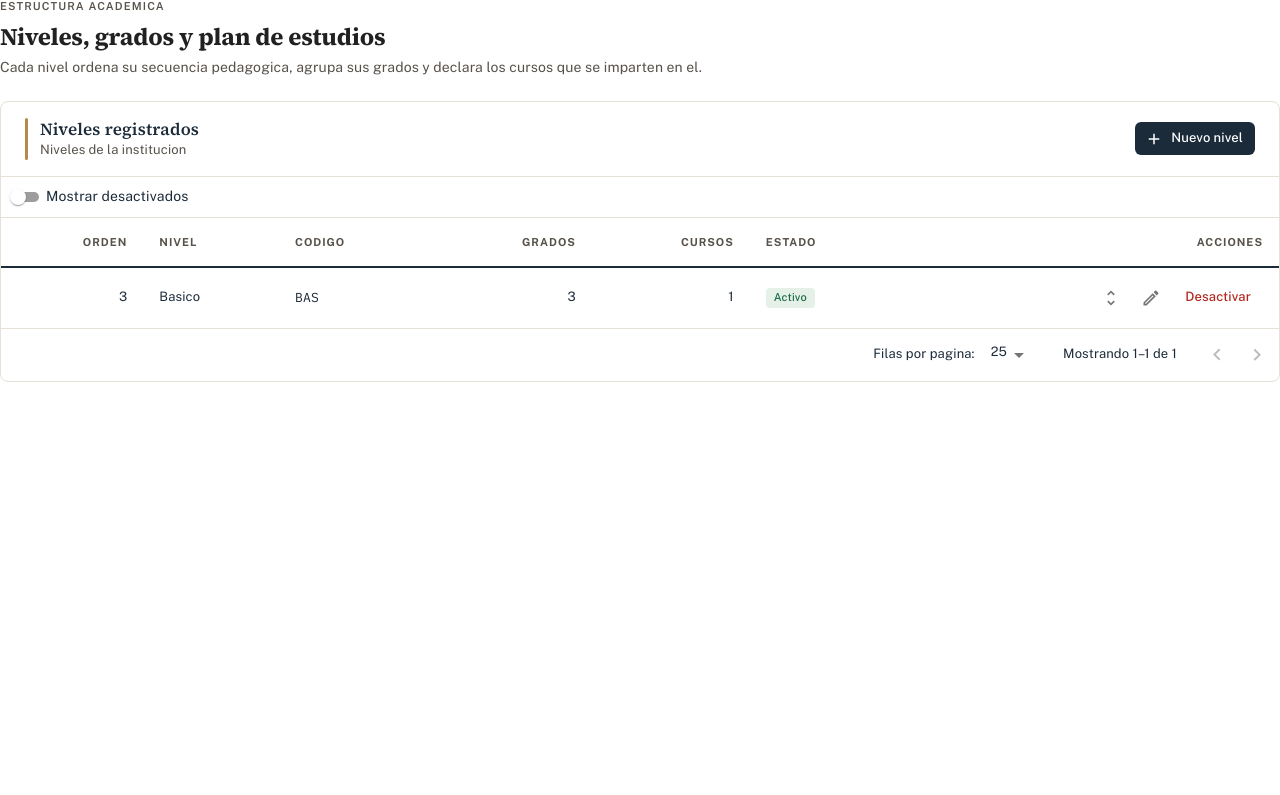
Scenario: pantalla de niveles › al abrir un nivel carga sus grados y su plan de estudios
Expected: the text "Basico" is shown, x1=143 y1=267 x2=279 y2=328
Click the button named "Abrir detalle".
click(1111, 298)  # box x1=1093 y1=280 x2=1129 y2=316
(page scrolled)
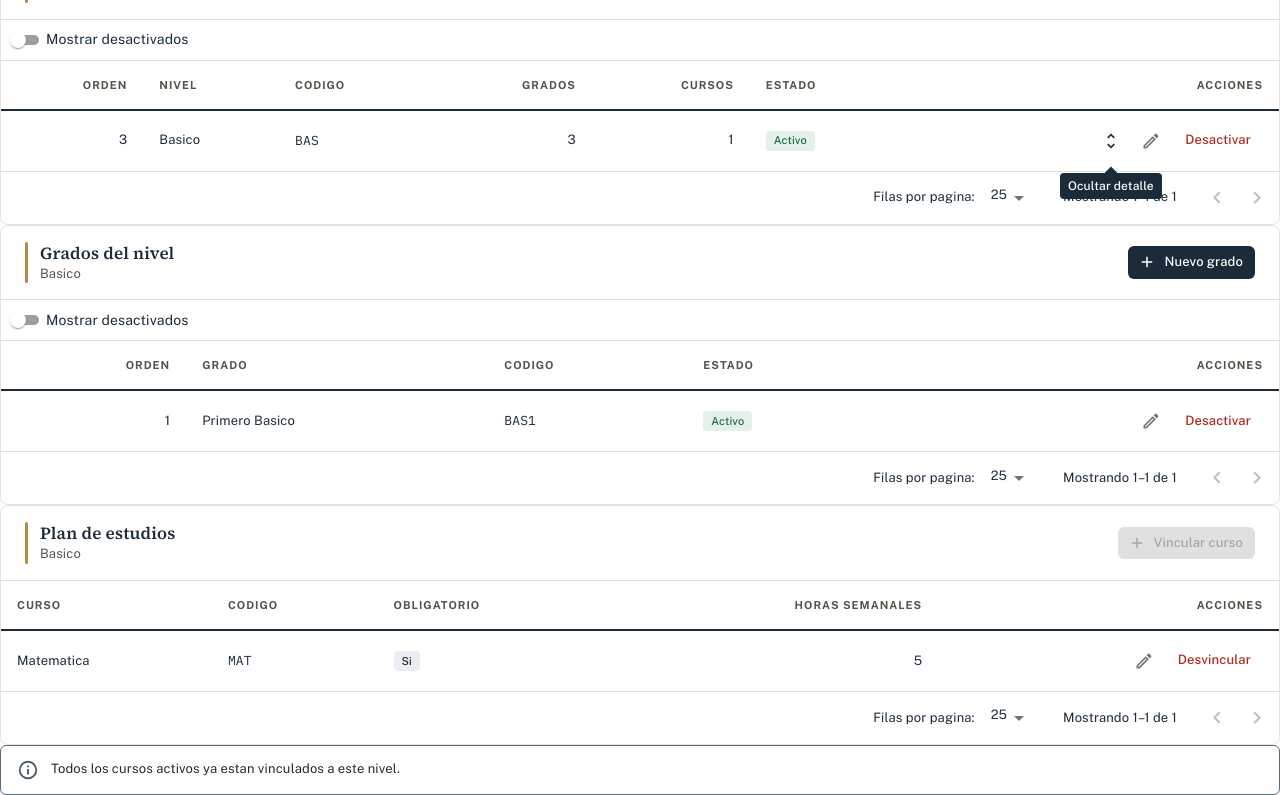
Expected: the text "Primero Basico" is shown, x1=186 y1=390 x2=488 y2=451
Expected: the heading "Plan de estudios" is shown, x1=40 y1=522 x2=176 y2=544
Expected: the text "Matematica" is shown, x1=1 y1=630 x2=212 y2=691
